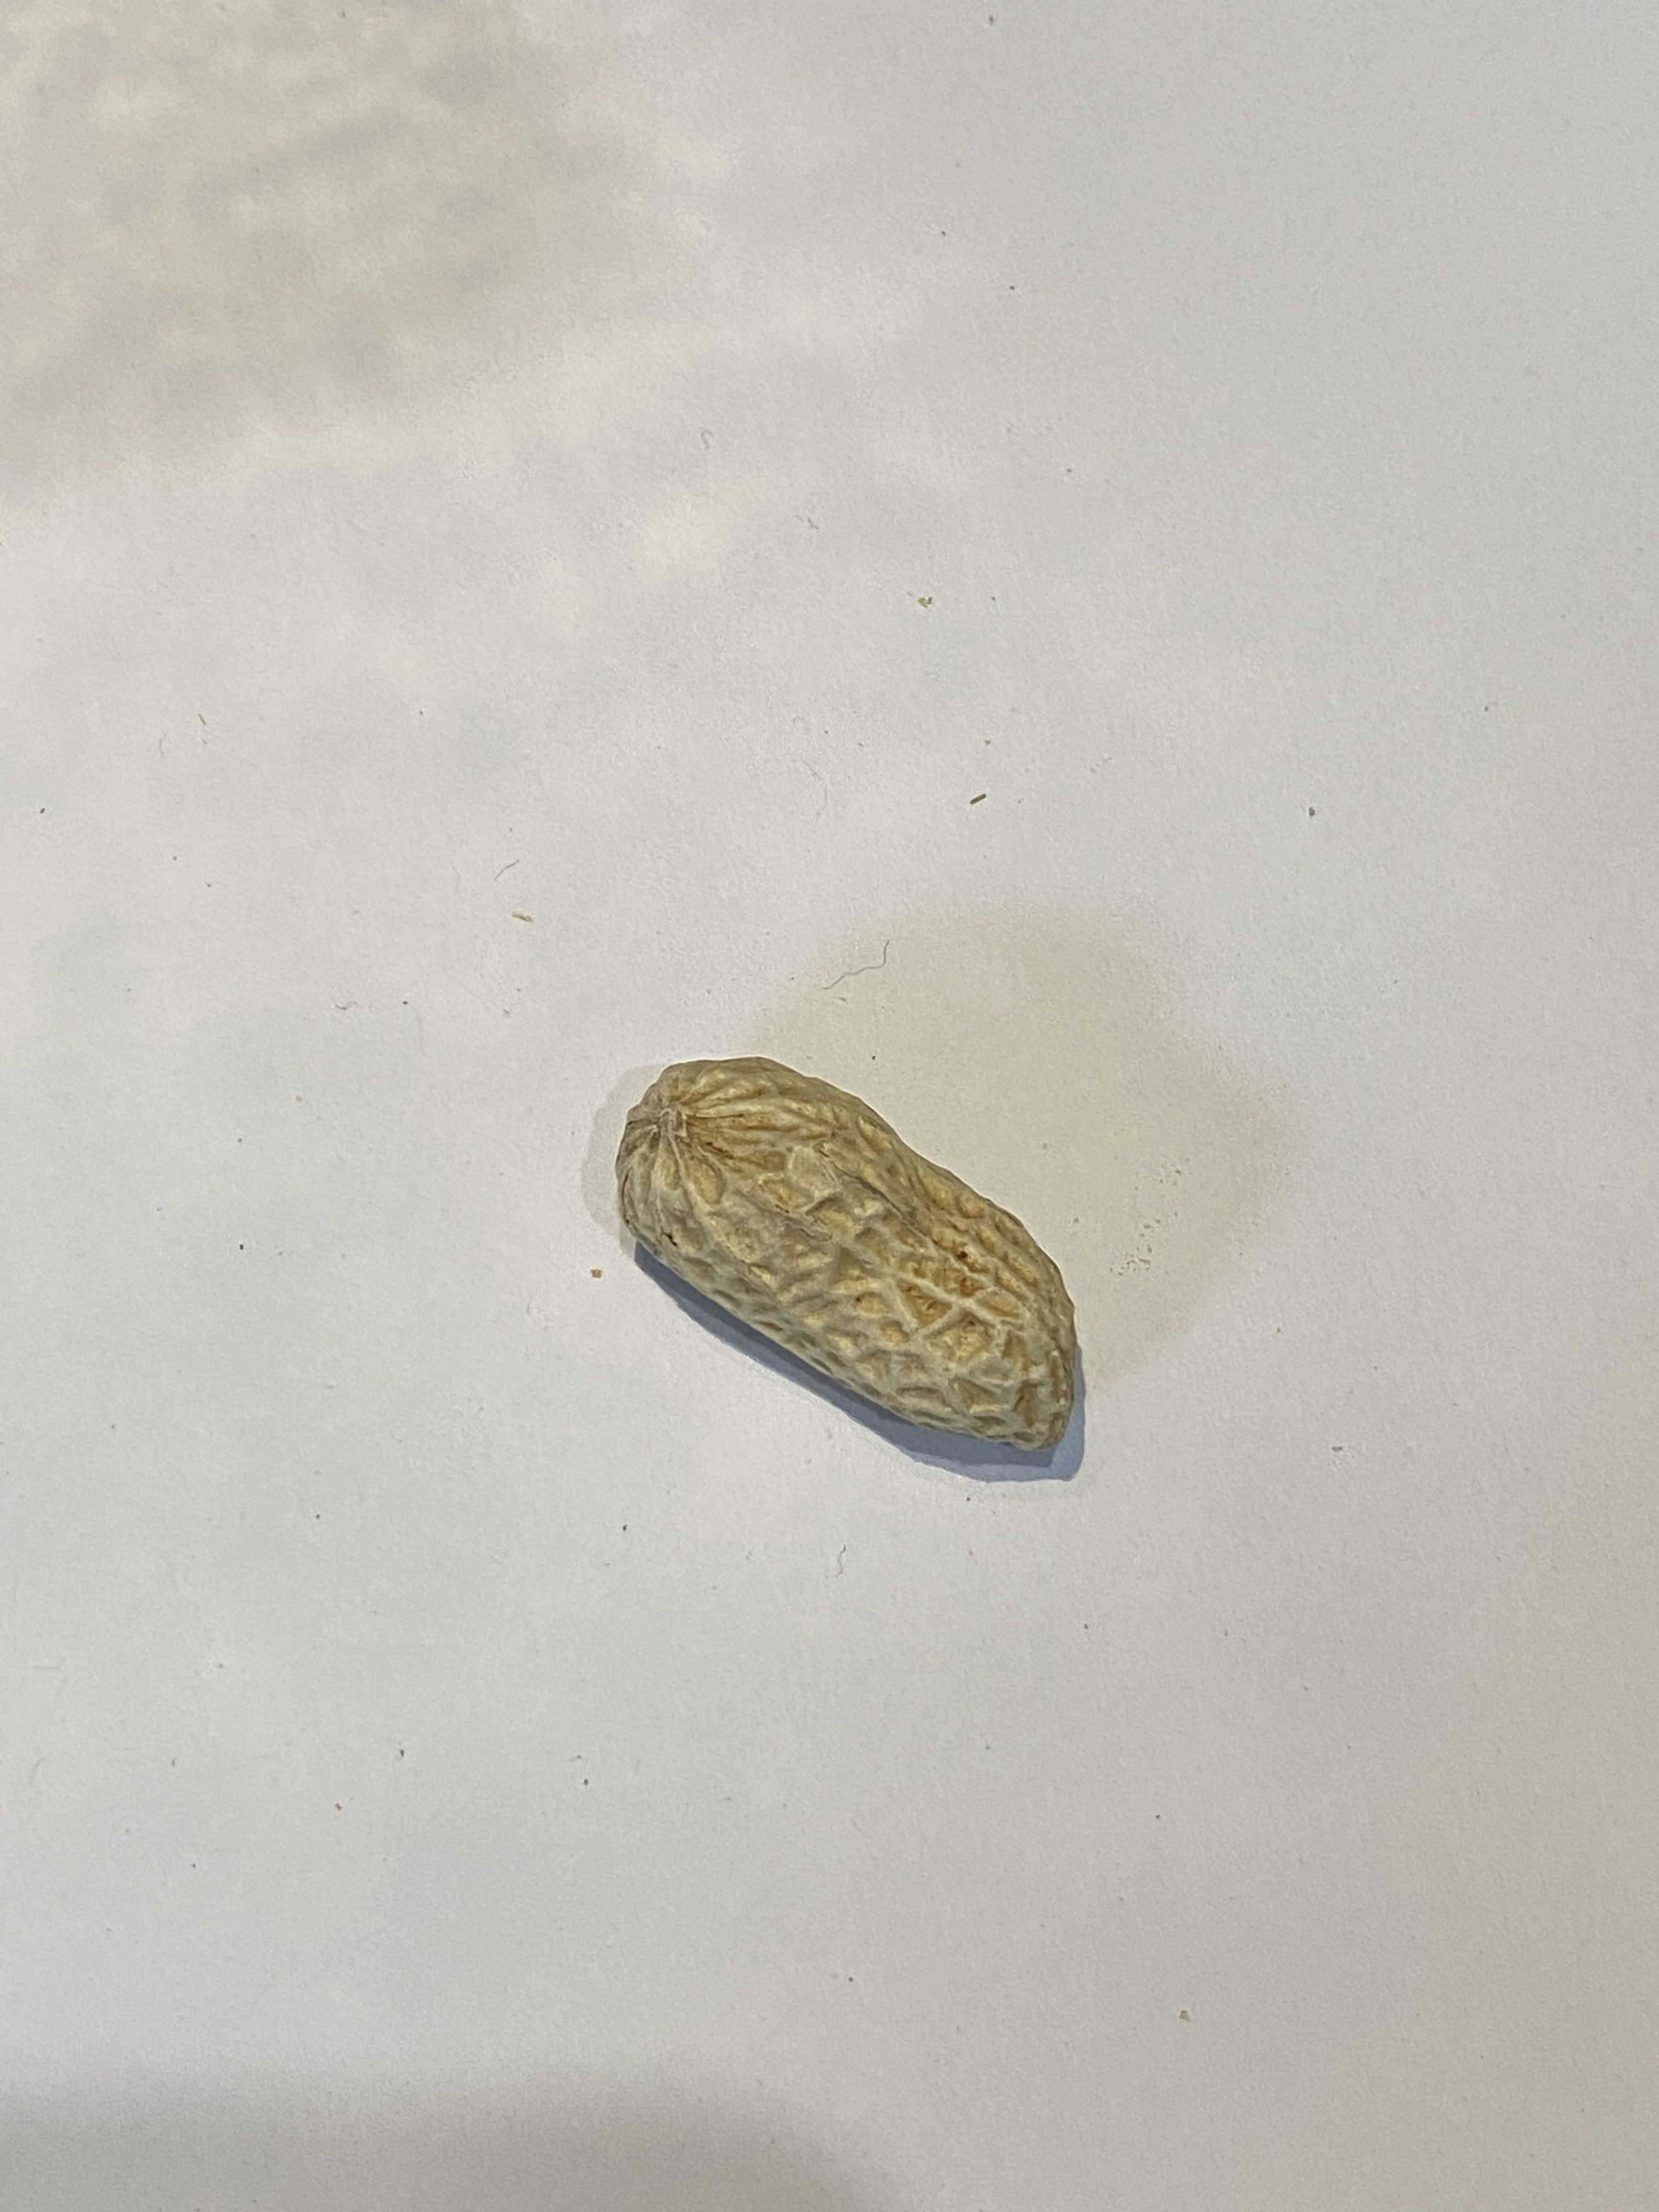kacang2: (612, 1031, 1108, 1480)
